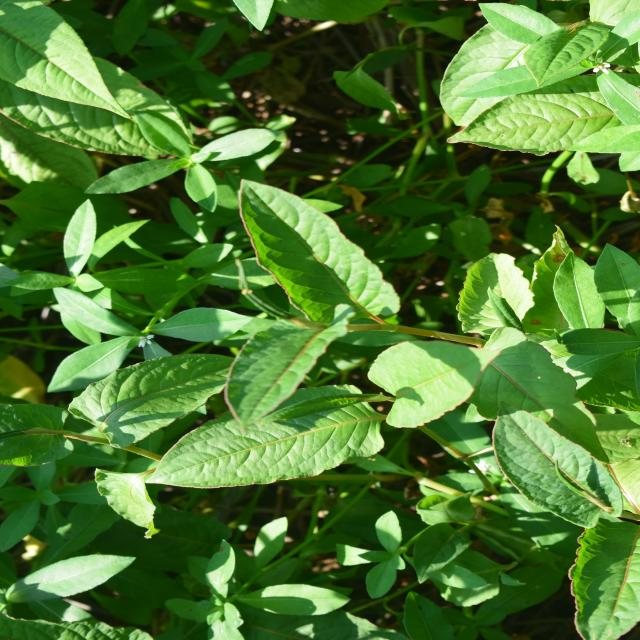Chinese_knotweed: (134, 149, 444, 459)
